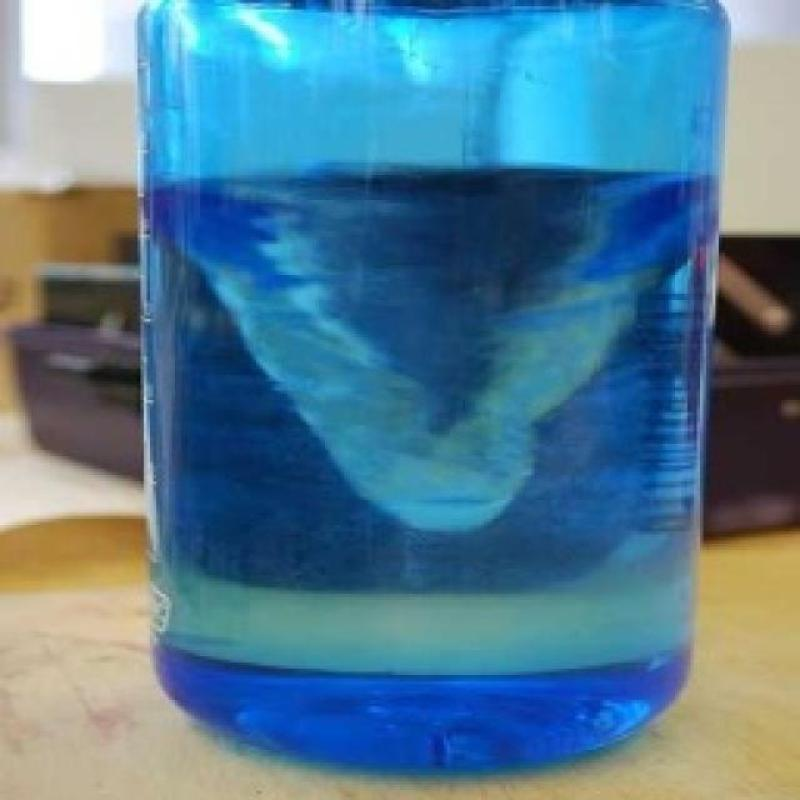botella: (139, 0, 733, 785)
